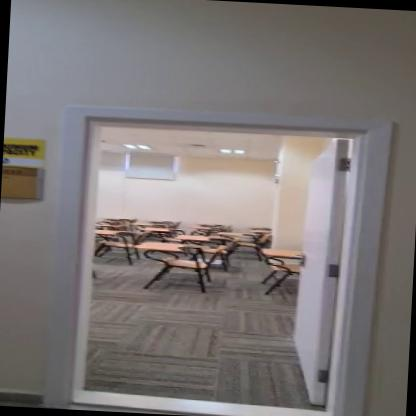open: (44, 85, 388, 415)
